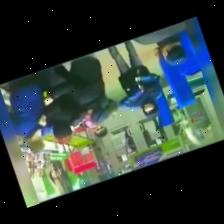person: (43, 54, 116, 123), (107, 41, 161, 118), (8, 72, 50, 153), (132, 21, 185, 65), (38, 93, 86, 138), (82, 115, 107, 138)
